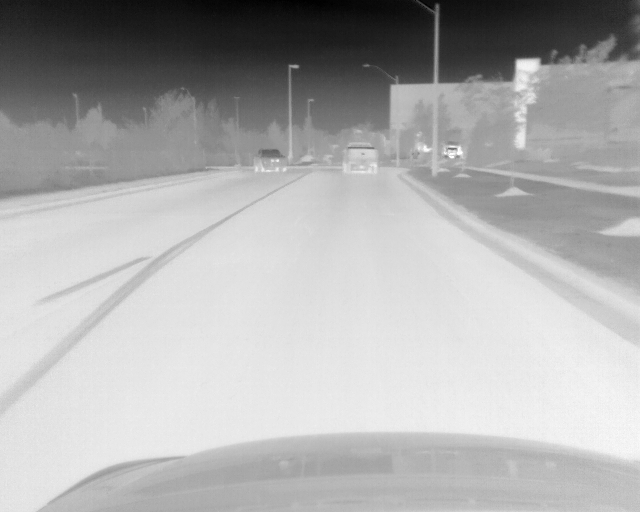car: (340, 141, 378, 175), (252, 147, 286, 174)
